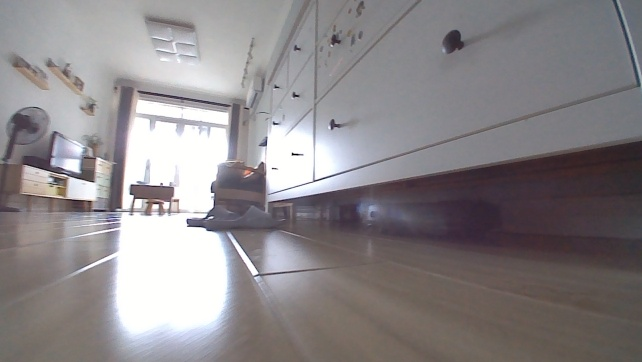TV_stand: (0, 162, 101, 213)
slipper: (184, 203, 283, 231)
